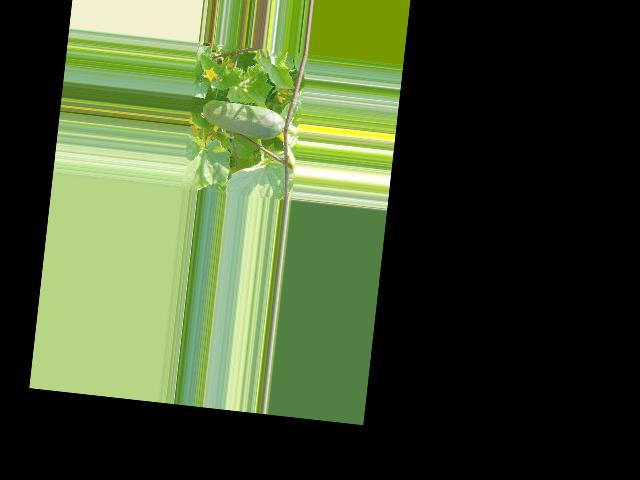cucumber: (199, 99, 286, 142)
